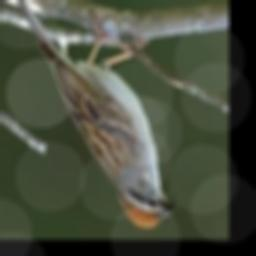Sparrow: (4, 0, 177, 230)
